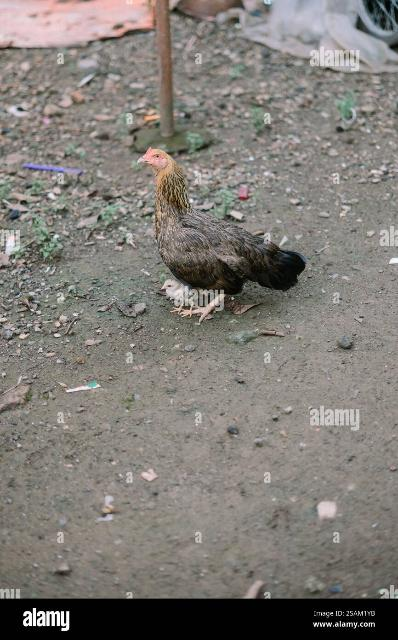Chicken: (135, 138, 316, 326)
